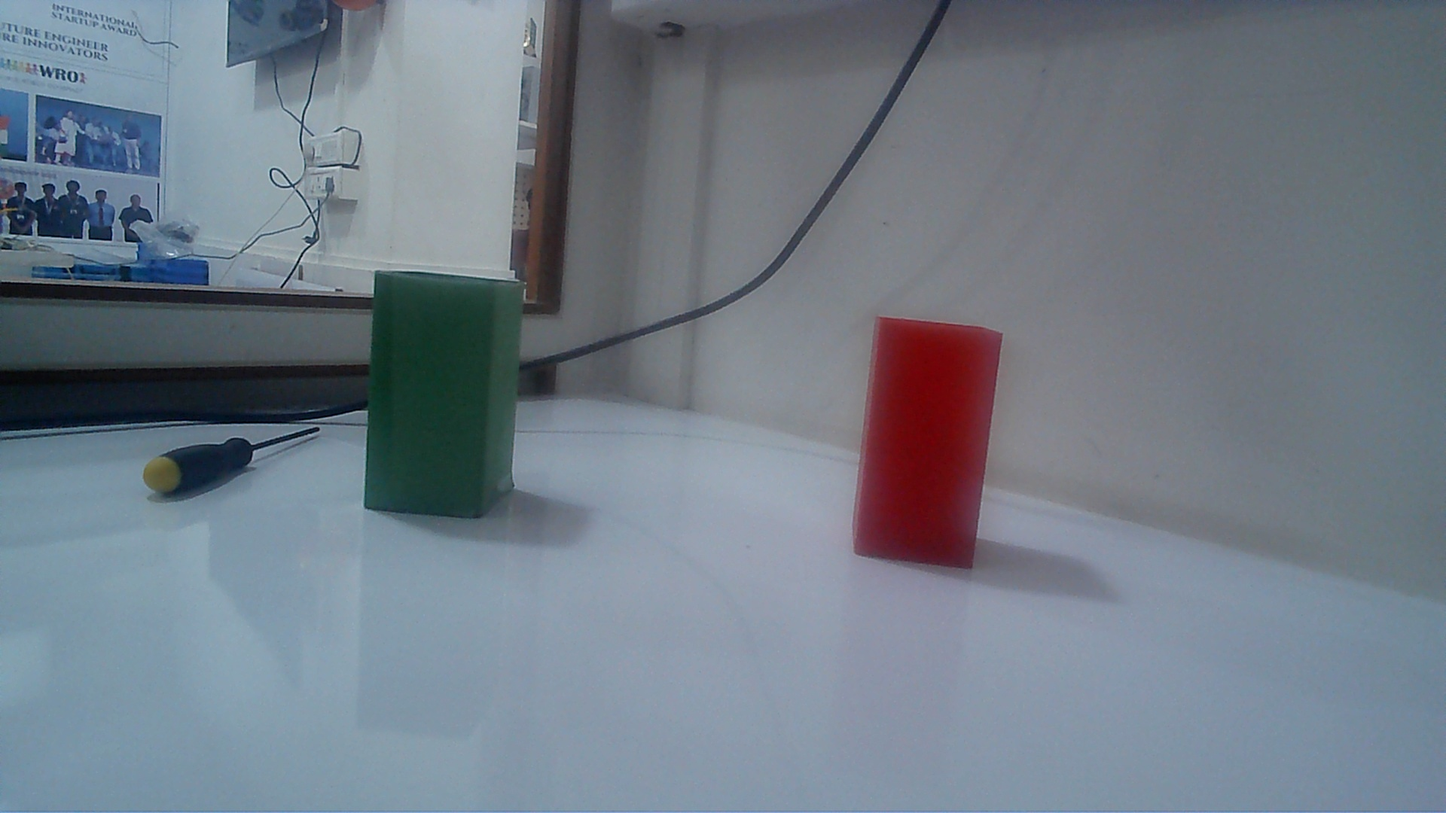green: (359, 276, 525, 507)
